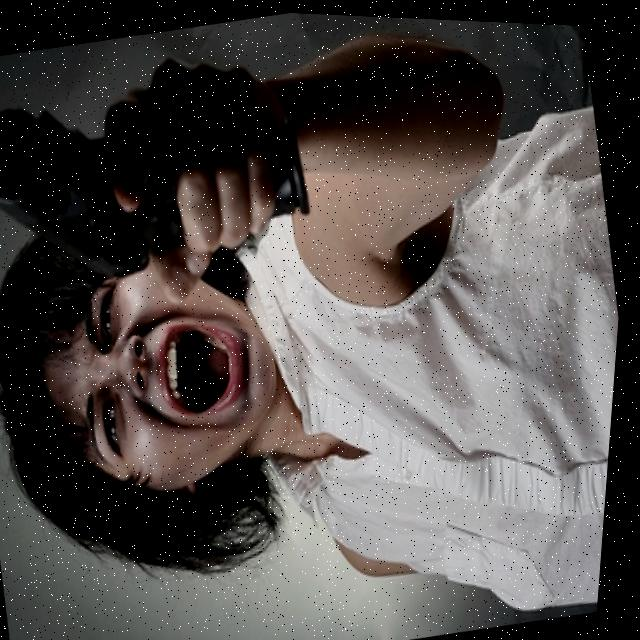pistol: (0, 78, 204, 312)
